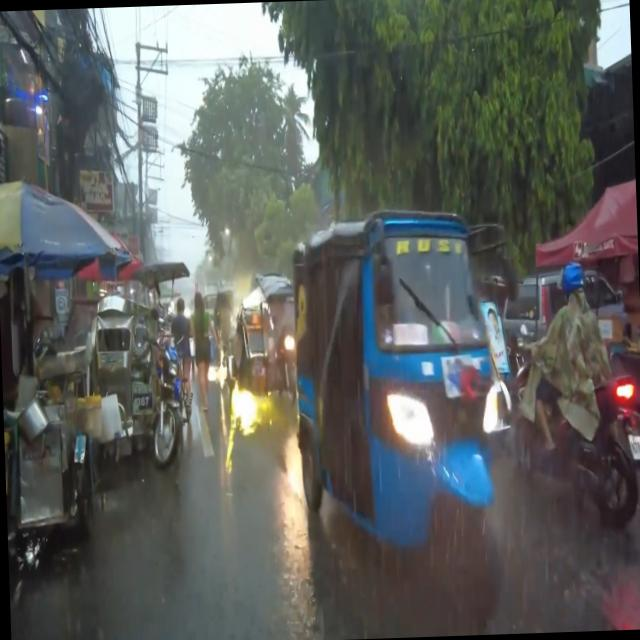full: (556, 260, 584, 294)
